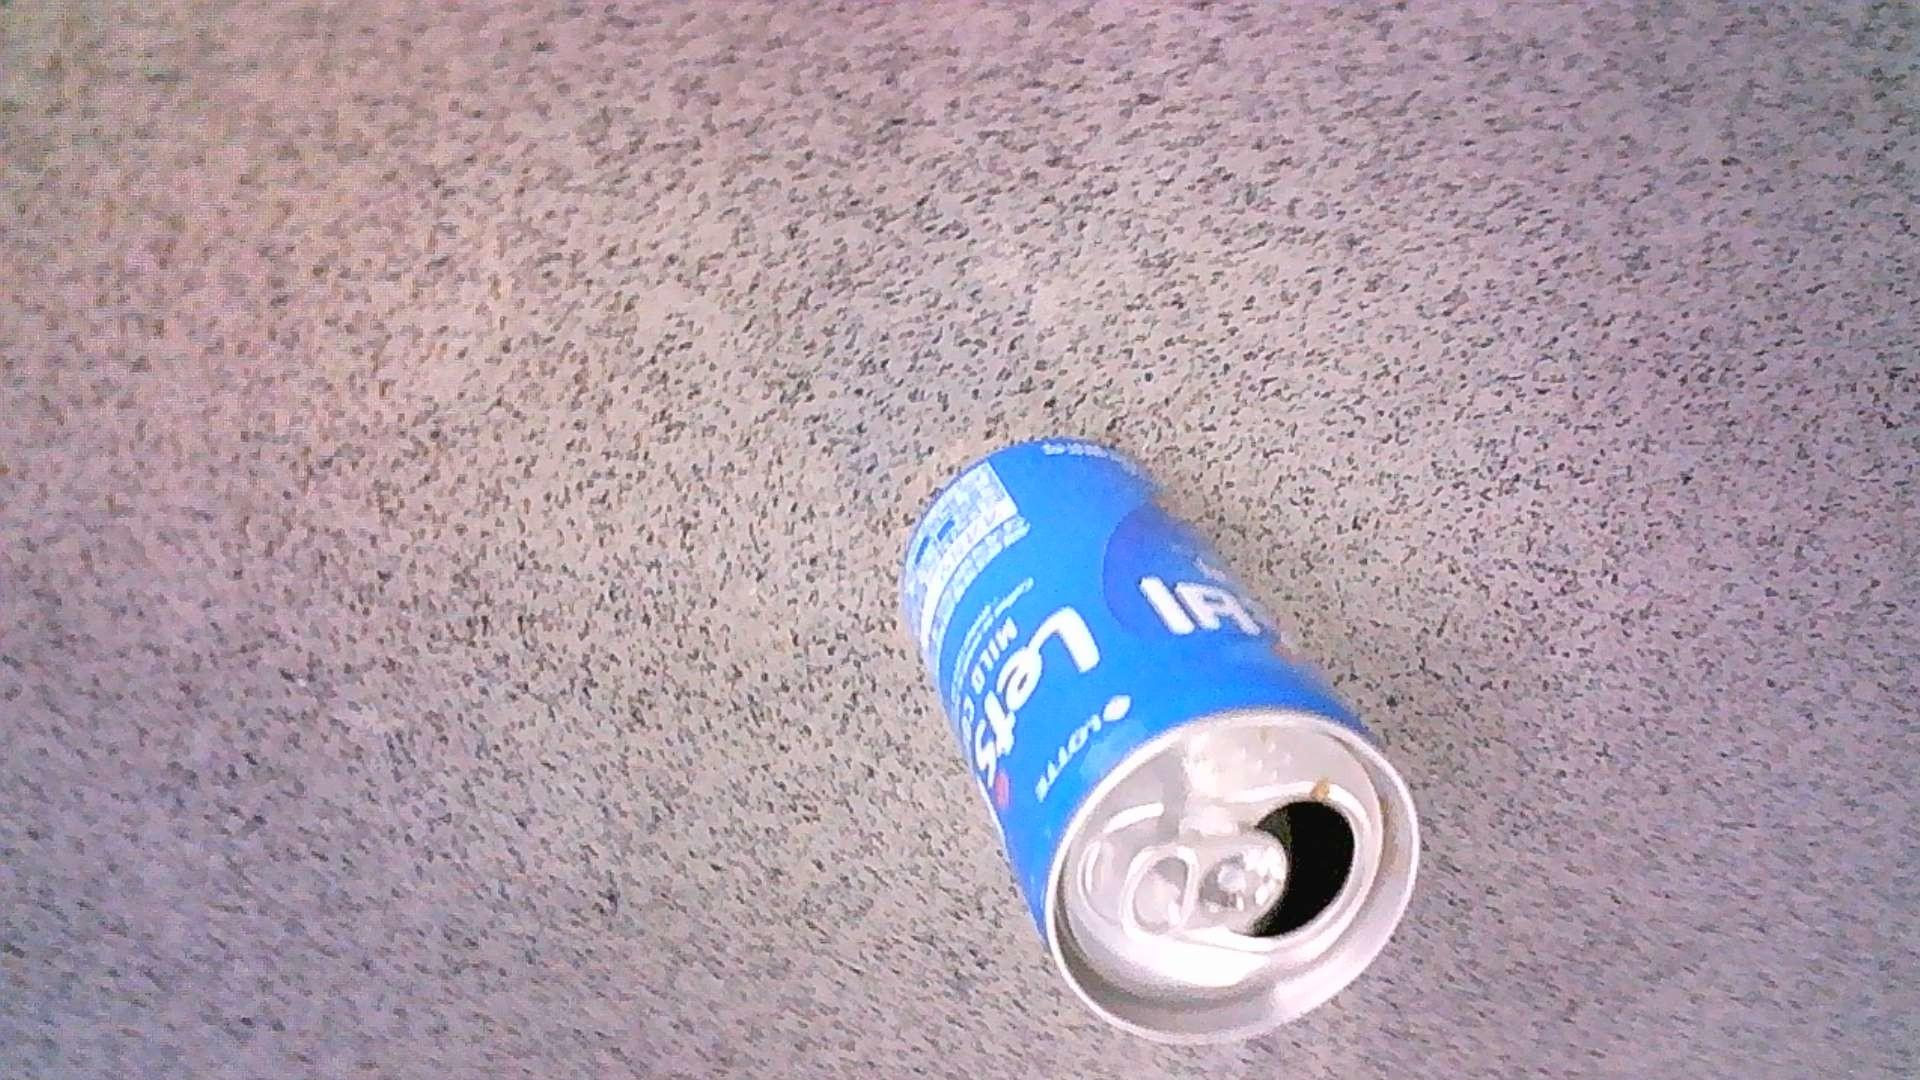letsbe: (901, 434, 1423, 1046)
